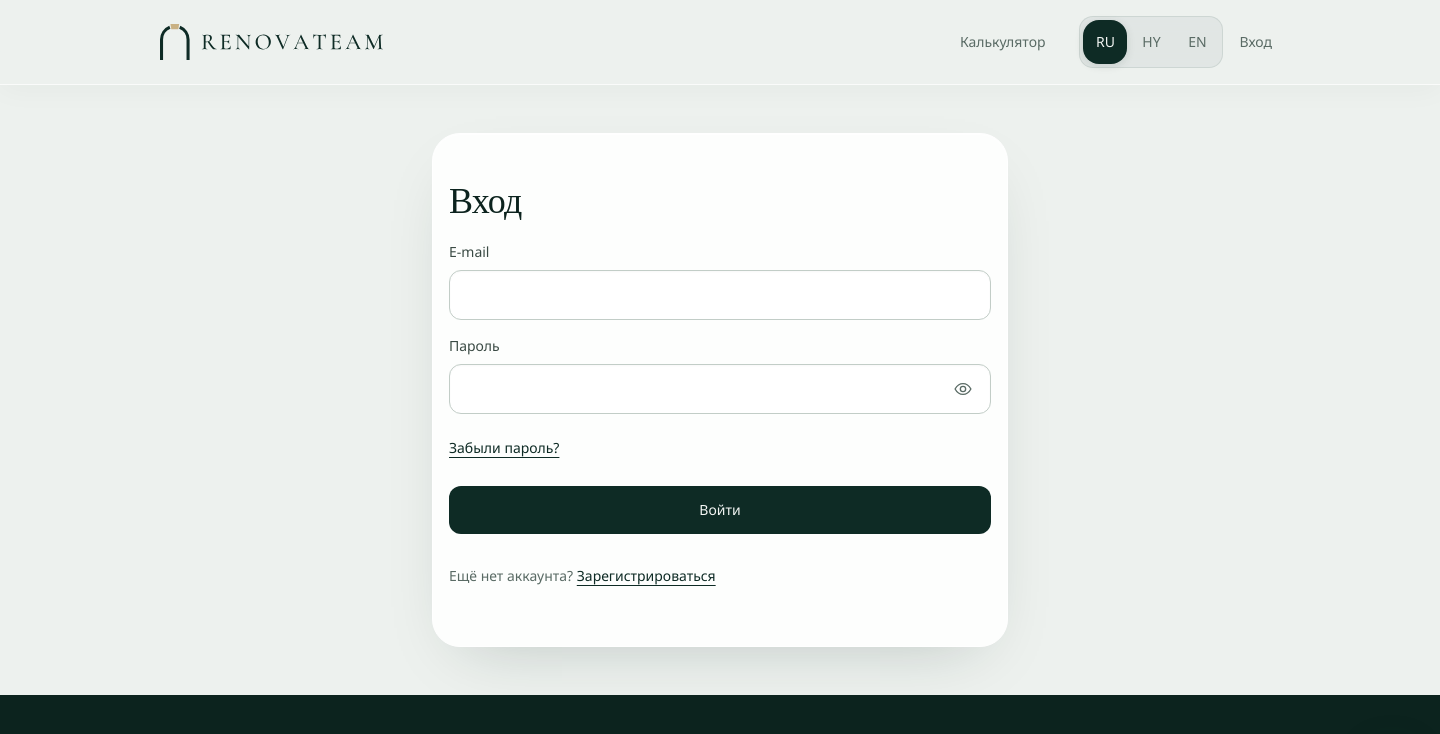
запрос письма восстановления › со страницы входа ведёт ссылка «Забыли пароль?»
Click the link "Забыли пароль?". click: (504, 448)
box: [449, 438, 559, 457]
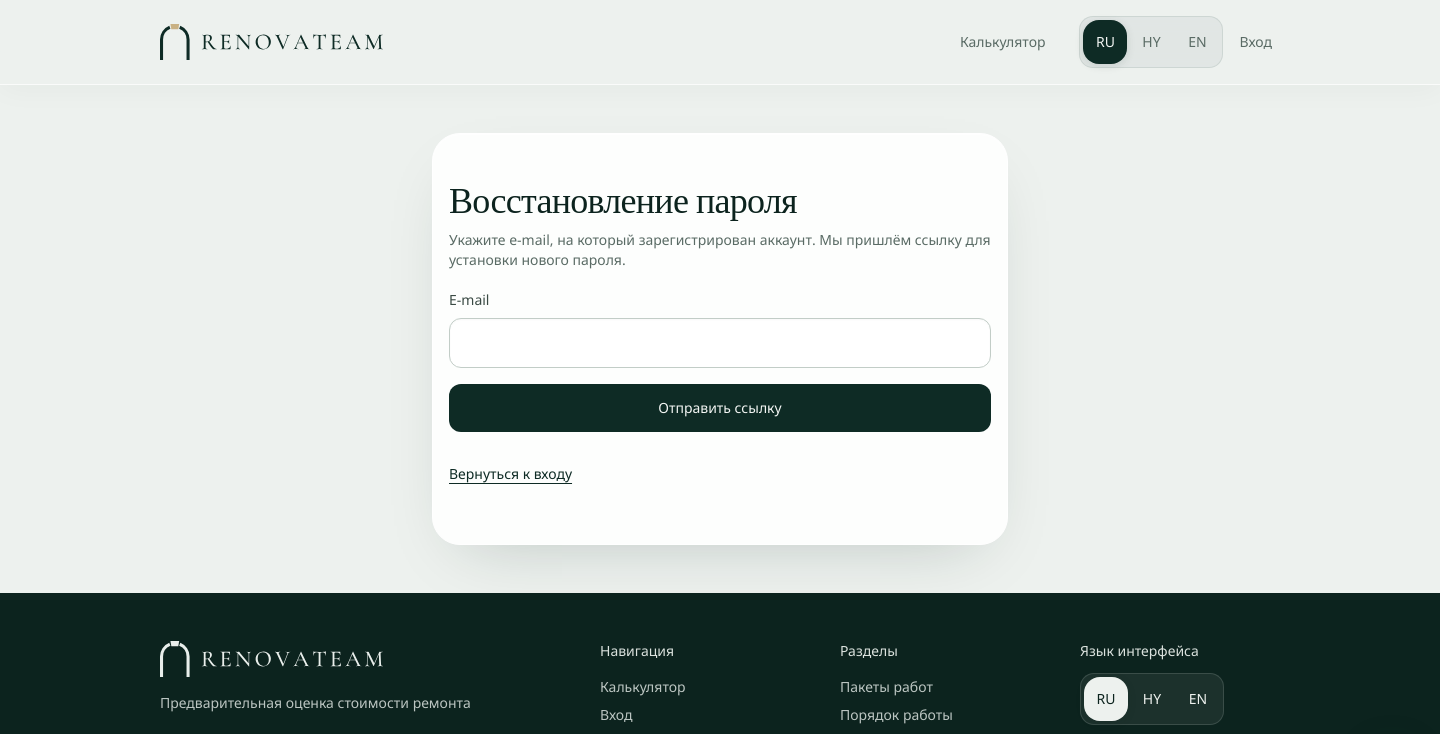
expect the heading "Восстановление пароля" is shown: met, box [449, 180, 797, 223]
